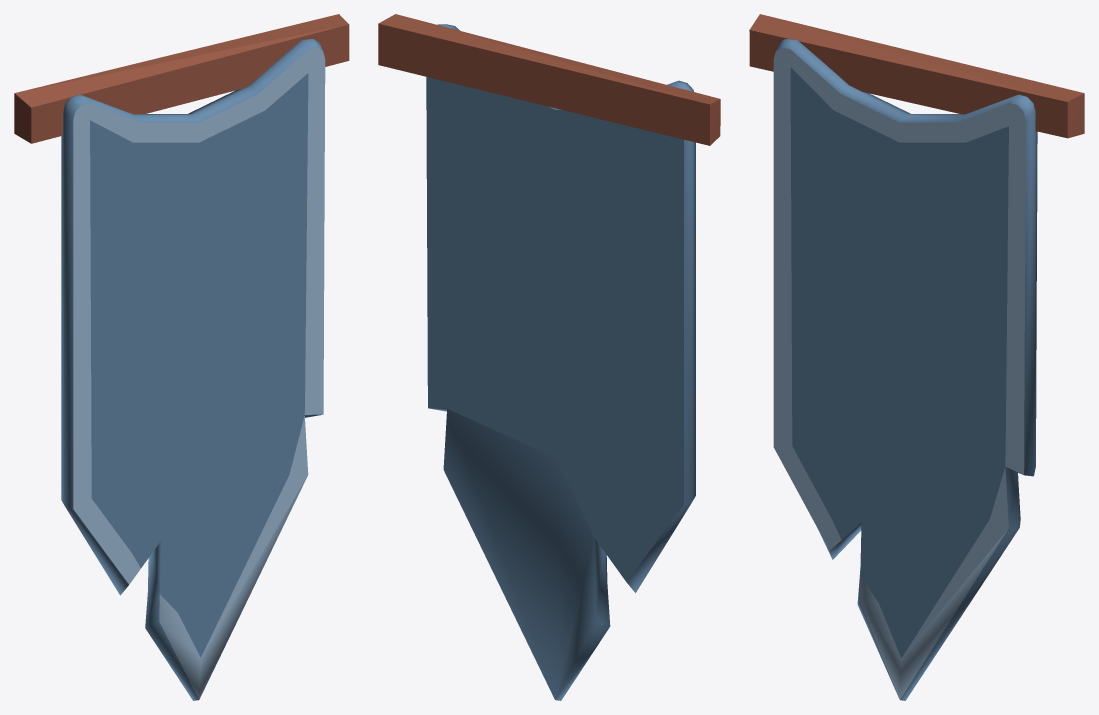
File: Banner.glb
3 views of the same model, side by side, from view 1: azimuth 30°, elevation 25°; view 2: azimuth 150°, elevation 25°; view 3: azimuth 330°, elevation 25° (orthographic). The views are drawn at different scales.
Parts seen in each view (by area): view 1: banner; view 2: banner; view 3: banner.
Part boxes in pixels (x1,y1,x2,y2): banner: (14,14,349,700); banner: (378,14,720,700); banner: (749,14,1084,700).
Size of the model in its own units: 1.4 by 2.61 by 0.1674.
